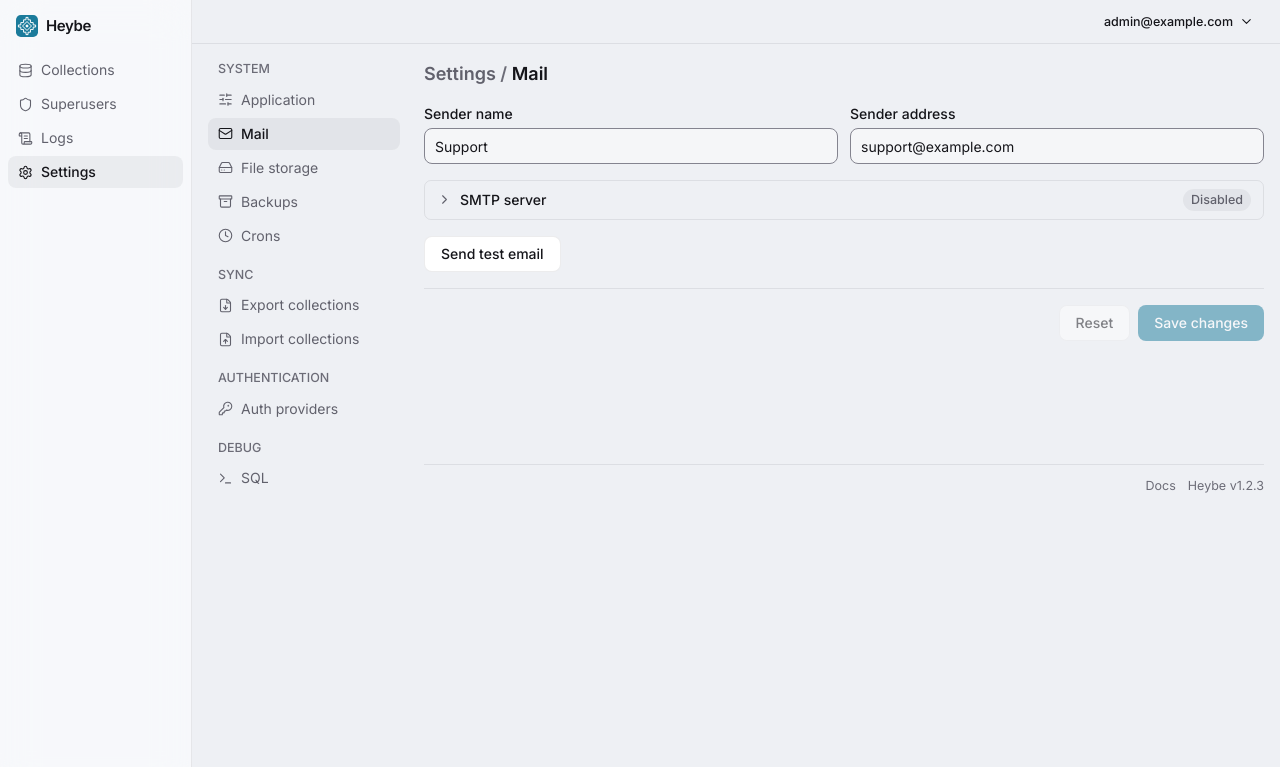
Scenario: smtp fields are disabled until SMTP is switched on
Click the button "SMTP server Disabled": (503, 199) [425,181,1263,218]
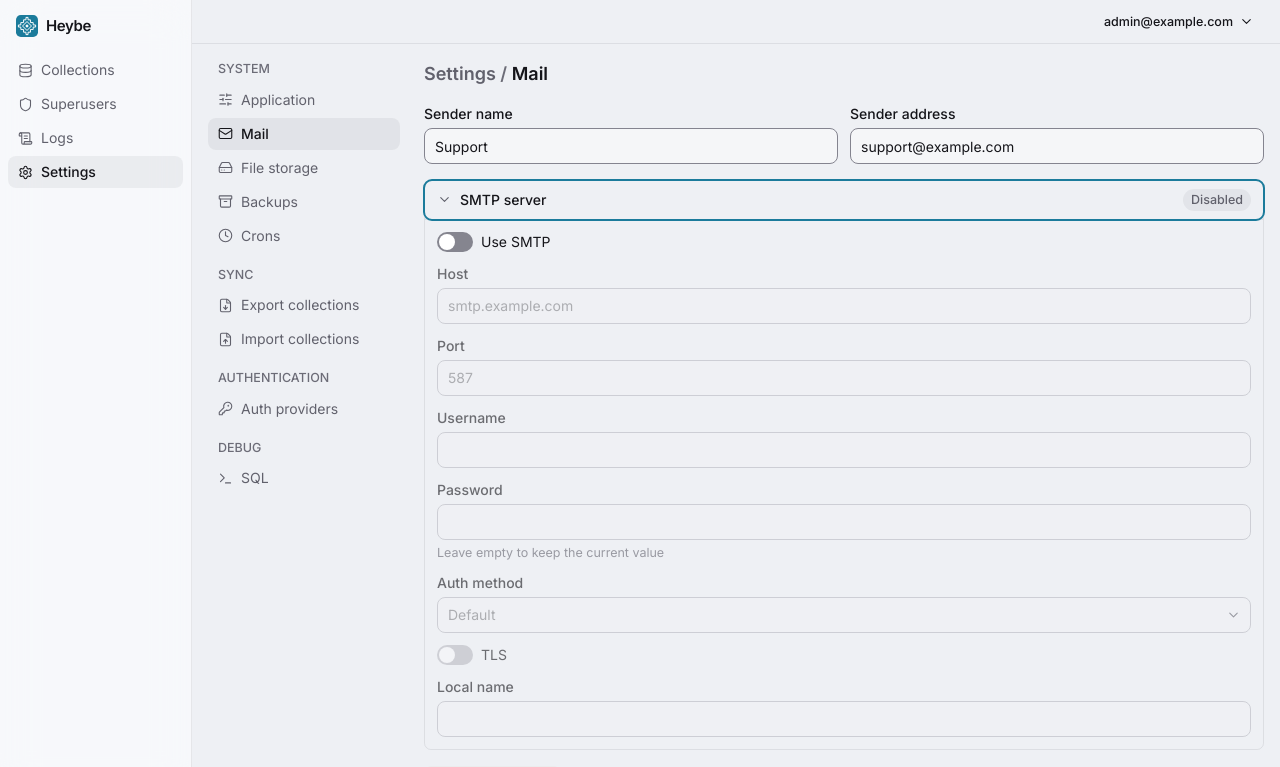
Click the switch named "Use SMTP": (455, 242) [437,232,473,252]
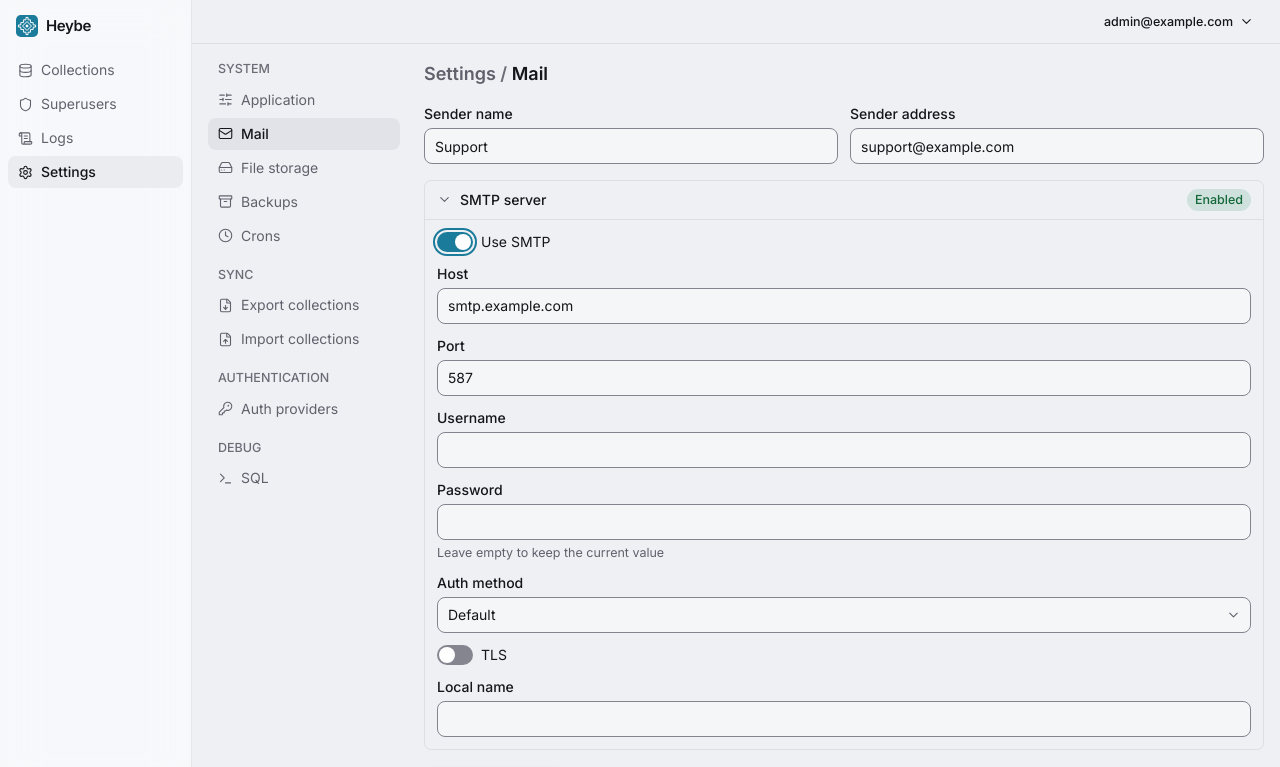
Expected: the element labelled "Host" is enabled, [437,264,1251,737]
